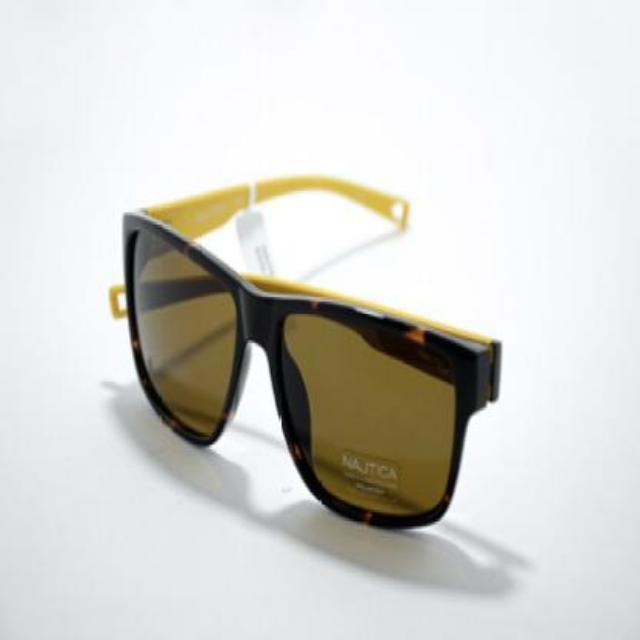sunglasses: (108, 172, 500, 526)
